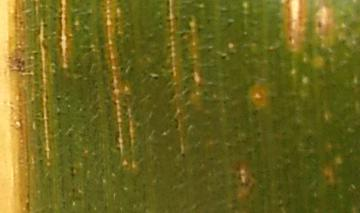tarspot: (68, 166, 75, 174), (57, 95, 62, 103), (154, 75, 160, 81), (56, 112, 62, 118), (128, 67, 135, 72), (222, 55, 227, 61), (318, 21, 322, 28), (85, 14, 92, 18), (208, 48, 213, 53), (229, 21, 234, 26), (69, 134, 74, 139), (207, 21, 211, 25), (71, 174, 75, 178)
